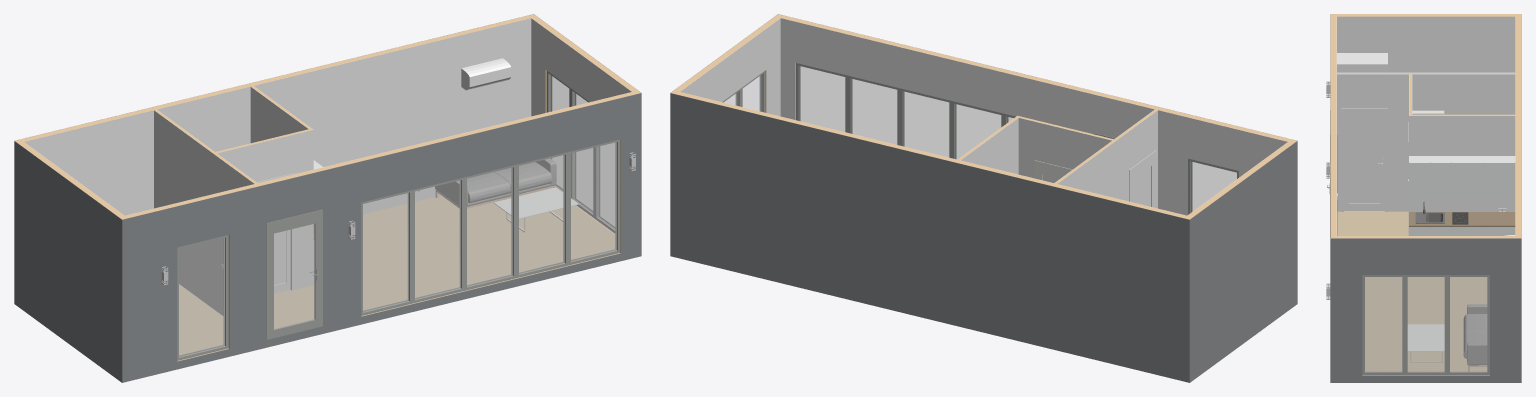
Rendered from jolanta805@inbox.fbx.
3 renders of one model, left to right at view 1: azimuth 30°, elevation 25°; view 2: azimuth 150°, elevation 25°; view 3: azimuth 270°, elevation 25°, orthographic. The views are drawn at different scales.
Parts seen in each view (by area): view 1: IfcWall/Part:2370825, IfcWall/Part:2370830, IfcWindow/Aluprof_MB-86-SI_E_Alu_Window-1sash-FIX_ENG_R-000. (×7), IfcSlab/Part:2370833, IfcWall/Part:2370828, IfcWall/Part:2370818, IfcDoor/Simple_vitree_-_03:1000x2100:2370780, IfcWindow/Aluprof_MB-86-SI_E_Alu_Window-1sash-FIX_ENG_R-000, IfcWindow/Aluprof_MB-86-SI_E_Alu_Window-1sash-FIX_ENG_R-0004, IfcWall/Part:2370821, IfcWall/Part:2370857, IfcFurnishingElement/Bolia - North Seater Sofa:2 1/2 Seater: (+8 smaller); view 2: IfcWall/Part:2370831, IfcWall/Part:2370824, IfcWall/Part:2370828, IfcWindow/Aluprof_MB-86-SI_E_Alu_Window-1sash-FIX_ENG_R-000. (×4), IfcWall/Part:2370857, IfcWall/Part:2370818, IfcWall/Part:2370822, IfcWindow/Aluprof_MB-86-SI_E_Alu_Window-1sash-FIX_ENG_R-000, IfcWall/Part:2370826, IfcWall/Part:2370832, IfcWall/Part:2370840, IfcWindow/Aluprof_MB-86-SI_E_Alu_Window-1sash-FIX_ENG_R-0004 (+4 smaller); view 3: IfcWall/Part:2370858, IfcWindow/Aluprof_MB-86-SI_E_Alu_Window-1sash-FIX_ENG_R-000. (×3), IfcSlab/Part:2370833, IfcWall/Part:2370827, IfcWall/Part:2370841, IfcWall/Part:2370819, IfcDoor/Simple_vitree_-_03:800x2100mm:2370847, IfcWall/Part:2370843, IfcWall/Part:2370832, IfcWall/Part:2370826, IfcFurnishingElement/Bolia - North Seater Sofa:2 1/2 Seater:, IfcFurnishingElement/Countertop1:Countertop:2414532 (+25 smaller).
Boxes of the visible parts, <box> form: IfcWall/Part:2370825: <box>122,93,641,382</box>; IfcWall/Part:2370830: <box>24,18,531,215</box>; IfcWindow/Aluprof_MB-86-SI_E_Alu_Window-1sash-FIX_ENG_R-000. (×7): <box>361,71,620,315</box>; IfcSlab/Part:2370833: <box>179,189,615,355</box>; IfcWall/Part:2370828: <box>14,141,122,382</box>; IfcWall/Part:2370818: <box>154,110,254,315</box>; IfcDoor/Simple_vitree_-_03:1000x2100:2370780: <box>266,209,322,339</box>; IfcWindow/Aluprof_MB-86-SI_E_Alu_Window-1sash-FIX_ENG_R-000: <box>515,152,567,278</box>; IfcWindow/Aluprof_MB-86-SI_E_Alu_Window-1sash-FIX_ENG_R-0004: <box>177,235,228,360</box>; IfcWall/Part:2370821: <box>217,130,313,289</box>; IfcWall/Part:2370857: <box>531,18,631,116</box>; IfcFurnishingElement/Bolia - North Seater Sofa:2 1/2 Seater:: <box>435,158,556,208</box>; IfcWall/Part:2370831: <box>670,93,1189,382</box>; IfcWall/Part:2370824: <box>780,18,1287,215</box>; IfcWall/Part:2370828: <box>1190,141,1297,382</box>; IfcWindow/Aluprof_MB-86-SI_E_Alu_Window-1sash-FIX_ENG_R-000. (×4): <box>740,63,1004,159</box>; IfcWall/Part:2370857: <box>680,18,780,116</box>; IfcWall/Part:2370818: <box>1057,110,1157,208</box>; IfcWall/Part:2370822: <box>1018,118,1111,178</box>; IfcWindow/Aluprof_MB-86-SI_E_Alu_Window-1sash-FIX_ENG_R-000: <box>847,75,900,145</box>; IfcWall/Part:2370826: <box>775,14,1291,214</box>; IfcWall/Part:2370832: <box>671,90,1192,219</box>; IfcWall/Part:2370840: <box>961,118,1018,174</box>; IfcWindow/Aluprof_MB-86-SI_E_Alu_Window-1sash-FIX_ENG_R-0004: <box>1187,158,1238,214</box>; IfcWall/Part:2370858: <box>1330,238,1521,382</box>; IfcWindow/Aluprof_MB-86-SI_E_Alu_Window-1sash-FIX_ENG_R-000. (×3): <box>1362,275,1489,375</box>; IfcSlab/Part:2370833: <box>1337,211,1487,371</box>; IfcWall/Part:2370827: <box>1337,16,1515,72</box>; IfcWall/Part:2370841: <box>1409,116,1515,211</box>; IfcWall/Part:2370819: <box>1337,74,1408,211</box>; IfcDoor/Simple_vitree_-_03:800x2100mm:2370847: <box>1341,108,1387,211</box>; IfcWall/Part:2370843: <box>1412,74,1515,114</box>; IfcWall/Part:2370832: <box>1515,14,1521,238</box>; IfcWall/Part:2370826: <box>1330,16,1336,238</box>; IfcFurnishingElement/Bolia - North Seater Sofa:2 1/2 Seater:: <box>1463,304,1487,371</box>; IfcFurnishingElement/Countertop1:Countertop:2414532: <box>1409,212,1515,227</box>.
Bounding box in the file's own units: 1000 × 300 × 368.
